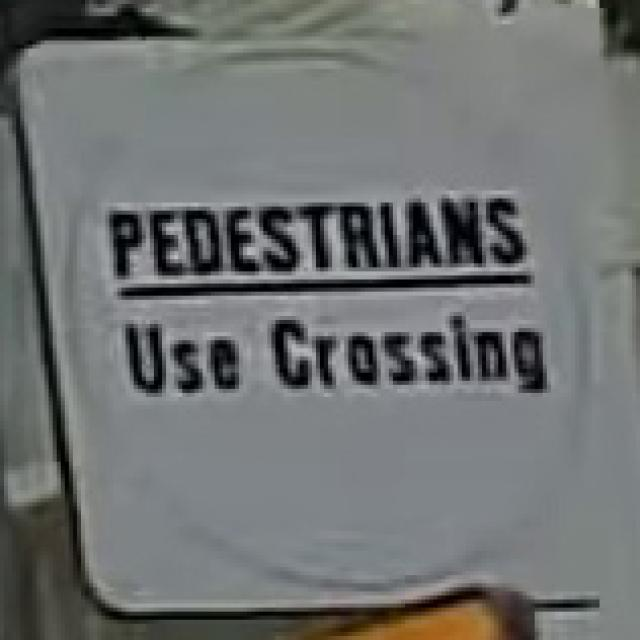pedestriancrossing_sign: (101, 190, 583, 419)
